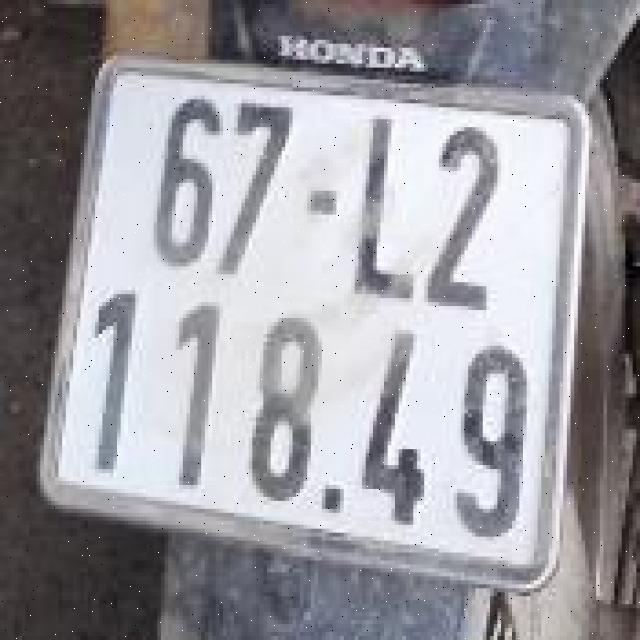1: (152, 280, 228, 499), (82, 276, 141, 487)
2: (415, 117, 518, 328)
4: (346, 324, 437, 543)
6: (144, 83, 225, 274)
7: (216, 80, 296, 294)
8: (240, 304, 324, 519)
9: (448, 334, 536, 541)
L: (329, 109, 428, 312)
